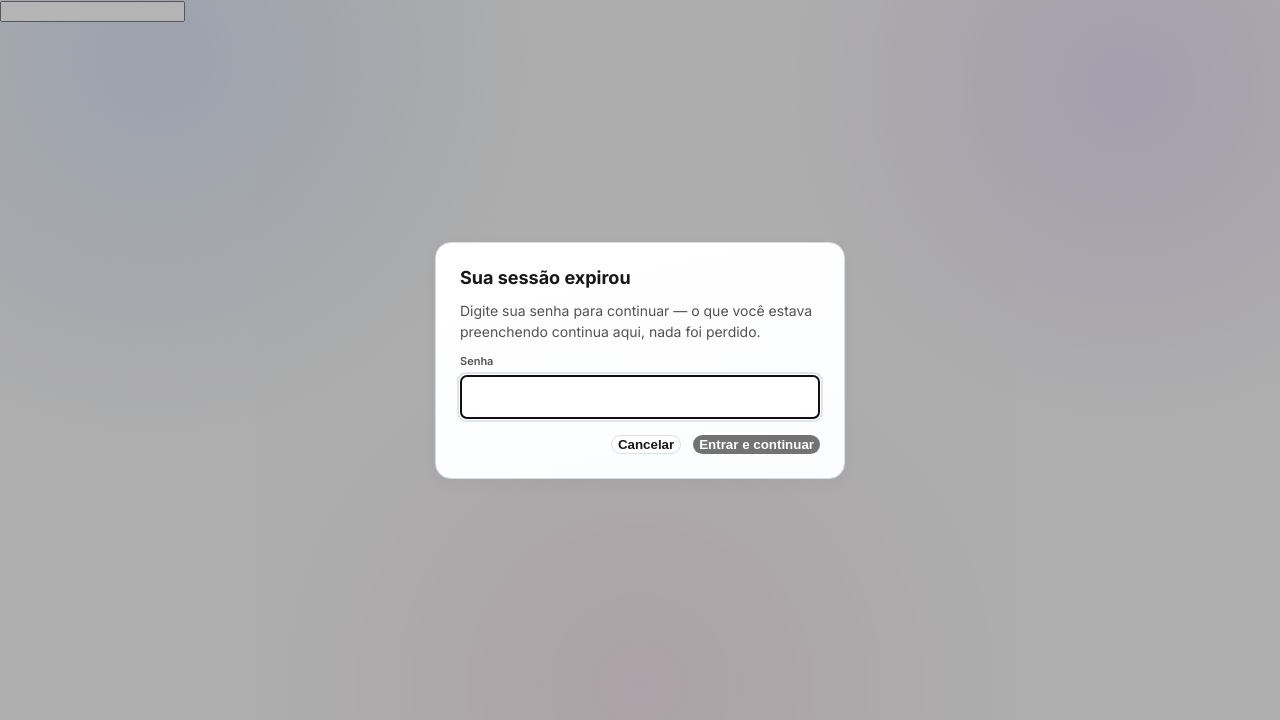
Test: SessionExpiredModal (S13-08) › Cancelar closes the modal without logging in
Expected: the field named "Nome da regra" is shown, [0,1,185,22]
Expected: the dialog is shown, [435,242,845,478]
Click the button "Cancelar": (646,444) [611,434,681,454]
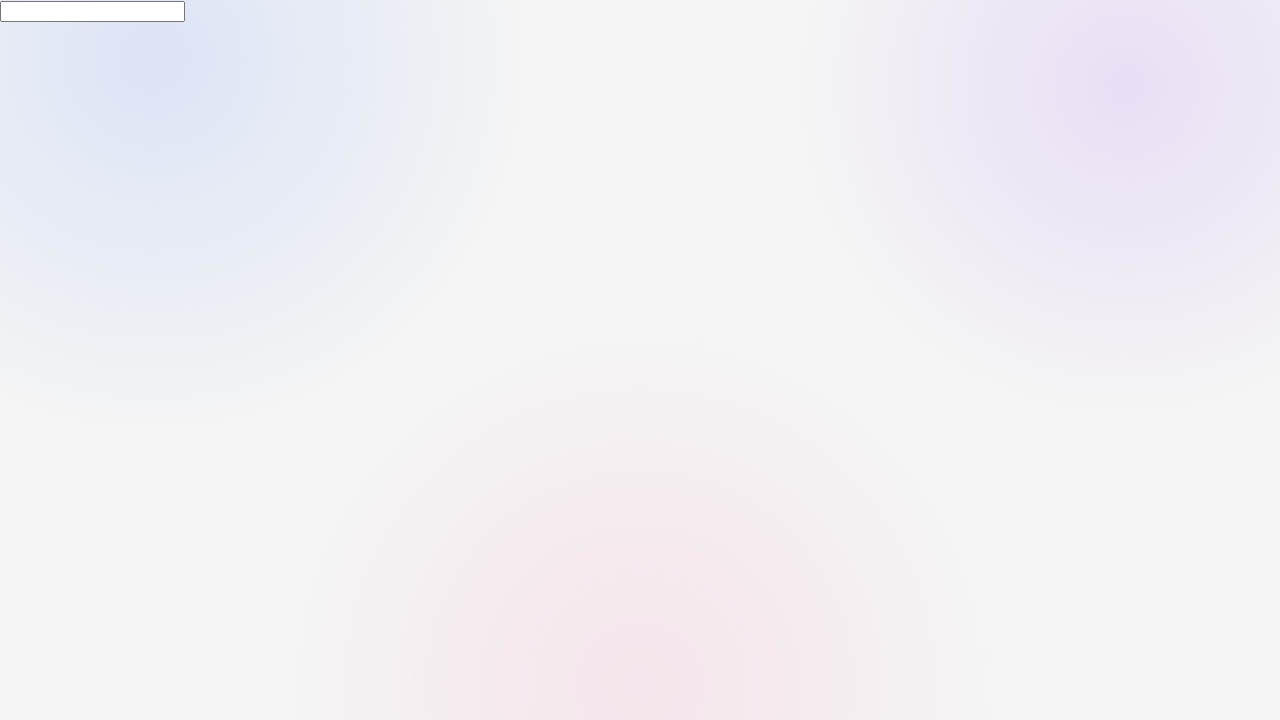
Expected: the dialog is gone
